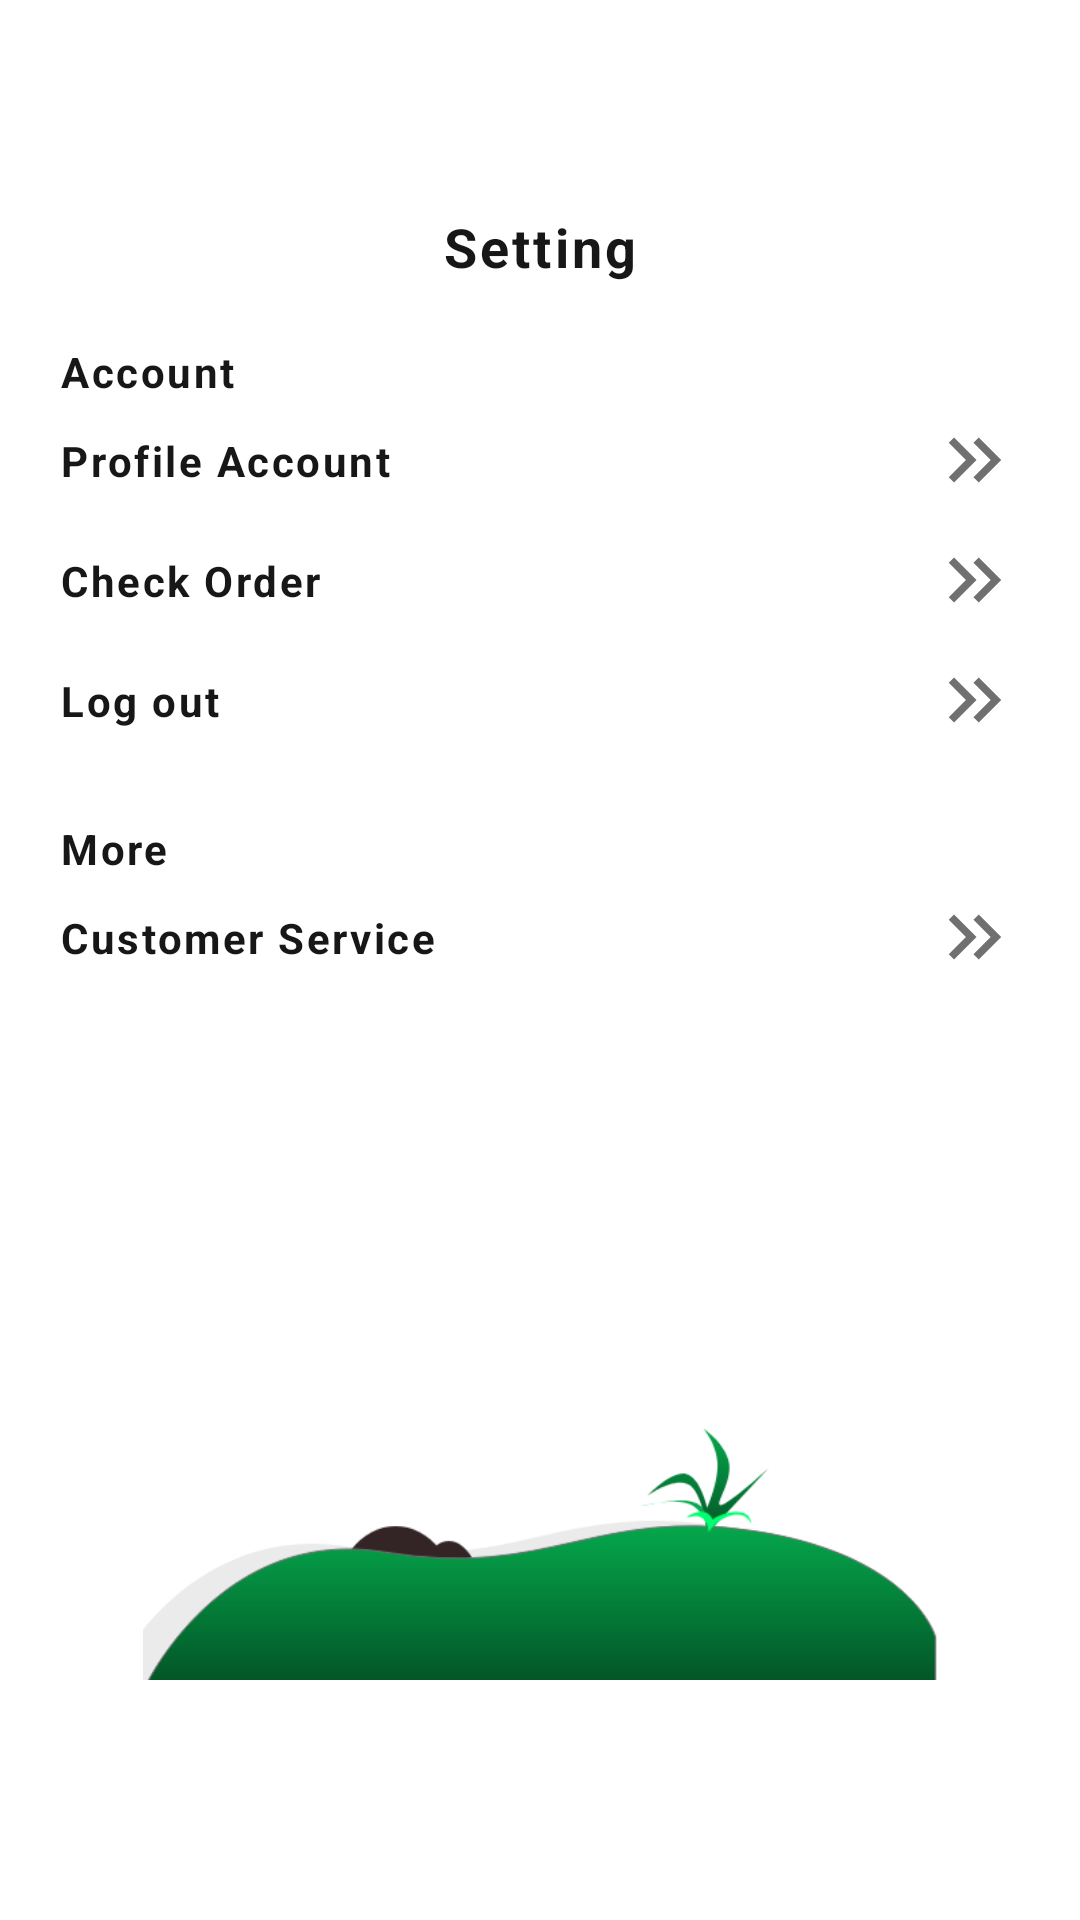

Locate icon controls on the screen. Image size 1080w x 1920h, boxes as rect(x1, y1, x2, y2).
double arrow: rect(949, 437, 1001, 483), rect(949, 557, 1001, 603), rect(949, 677, 1001, 723), rect(949, 914, 1001, 960)
